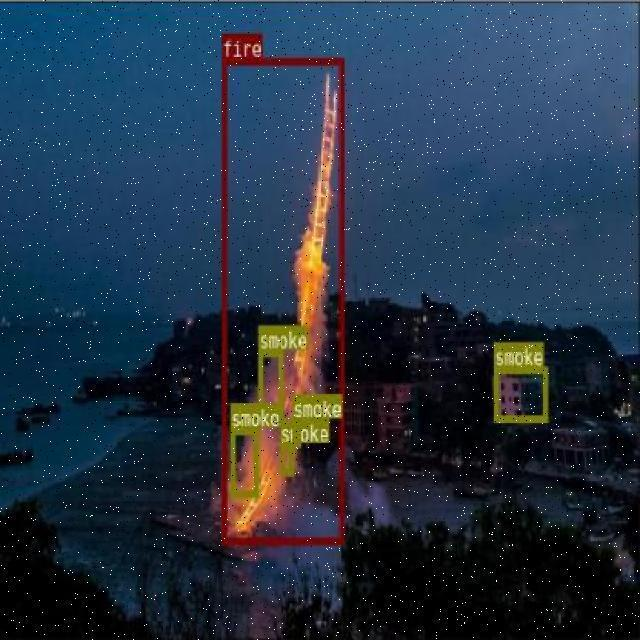Smoke: (492, 366, 546, 422), (229, 421, 258, 489), (251, 348, 276, 421), (282, 442, 289, 475), (292, 417, 299, 445)
